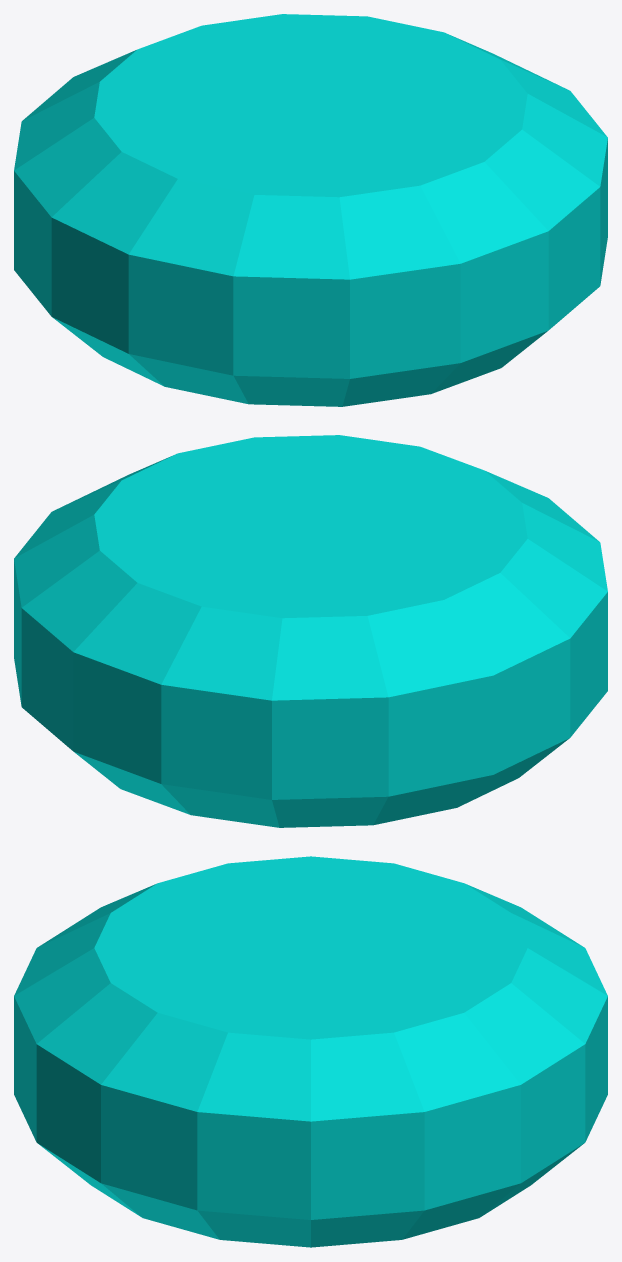
Rendered from Jem_10.fbx.
3 renders of one model, top to bottom at view 1: azimuth 30°, elevation 25°; view 2: azimuth 150°, elevation 25°; view 3: azimuth 270°, elevation 25°, orthographic.
Parts seen in each view (by area): view 1: Jem_10; view 2: Jem_10; view 3: Jem_10.
Part boxes in pixels (x1,y1,x2,y2): Jem_10: [14, 14, 607, 406]; Jem_10: [14, 435, 607, 827]; Jem_10: [14, 856, 607, 1247].
Size of the model in its own units: 40 by 14.79 by 40.
